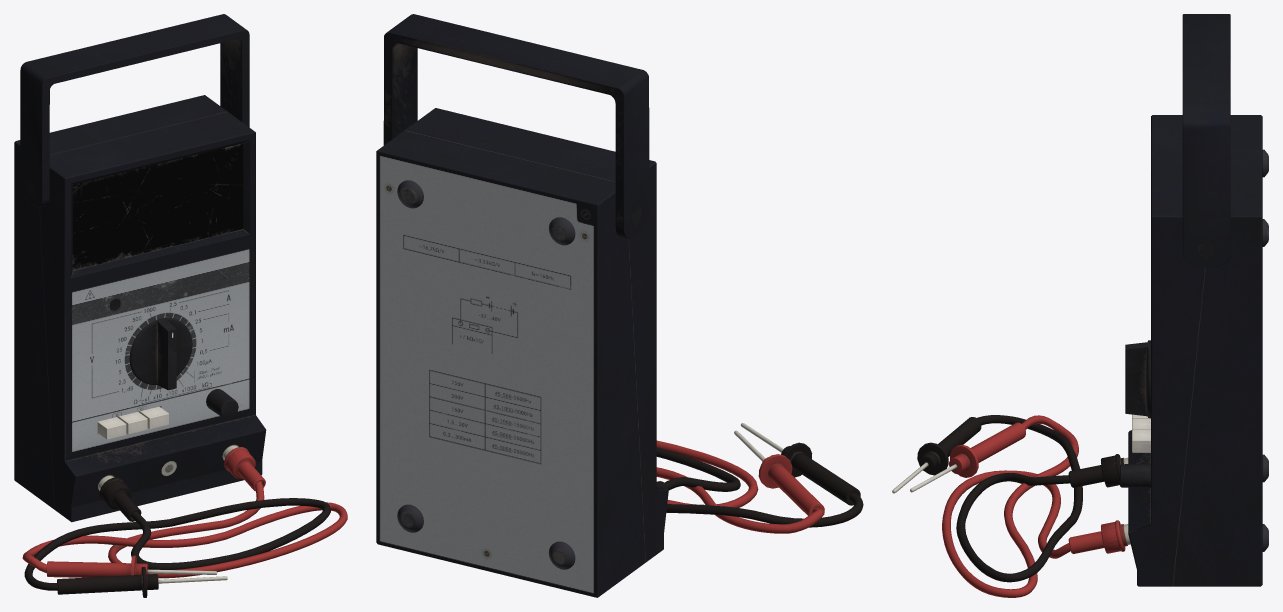
The model's file is retro_multimeter.glb.
3 renders of one model, left to right at view 1: azimuth 30°, elevation 25°; view 2: azimuth 150°, elevation 25°; view 3: azimuth 270°, elevation 25°, orthographic. The views are drawn at different scales.
Parts seen in each view (by area): view 1: retro_multimeter_LOD0, retro_multimeter_cables_LOD0, retro_multimeter_handle_LOD0, retro_multimeter_dial_LOD0, retro_multimeter_buttons_LOD0, retro_multimeter_knob_LOD0; view 2: retro_multimeter_LOD0, retro_multimeter_handle_LOD0, retro_multimeter_cables_LOD0; view 3: retro_multimeter_LOD0, retro_multimeter_cables_LOD0, retro_multimeter_handle_LOD0, retro_multimeter_dial_LOD0, retro_multimeter_knob_LOD0, retro_multimeter_buttons_LOD0.
Part boxes in pixels (x1,y1,x2,y2): retro_multimeter_LOD0: (14,95,266,522); retro_multimeter_cables_LOD0: (22,445,347,597); retro_multimeter_handle_LOD0: (20,14,249,207); retro_multimeter_dial_LOD0: (129,318,192,390); retro_multimeter_buttons_LOD0: (97,406,168,439); retro_multimeter_knob_LOD0: (206,389,238,418); retro_multimeter_LOD0: (376,108,668,597); retro_multimeter_handle_LOD0: (383,14,649,238); retro_multimeter_cables_LOD0: (656,423,863,533); retro_multimeter_LOD0: (1128,115,1268,586); retro_multimeter_cables_LOD0: (892,415,1130,597); retro_multimeter_handle_LOD0: (1182,14,1230,266); retro_multimeter_dial_LOD0: (1125,340,1150,418); retro_multimeter_knob_LOD0: (1120,463,1150,487); retro_multimeter_buttons_LOD0: (1132,414,1150,452).
Bounding box in the file's own units: 0.216 × 0.2786 × 0.2026.
2 materials, 2 textured.
